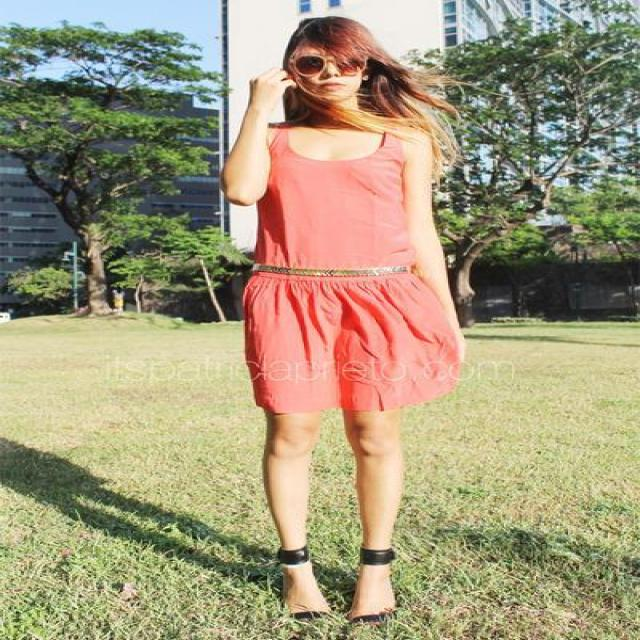dress: (250, 125, 459, 421)
shoe: (294, 576, 338, 611)
